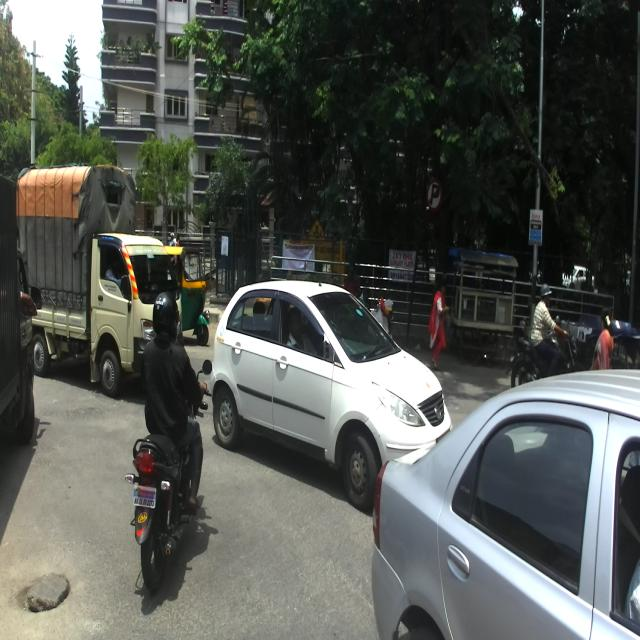car ahead at: (373, 376, 640, 640), (215, 277, 383, 497)
motorcycle ahead at: (122, 422, 202, 588)
truck ahead at: (18, 164, 144, 388)
